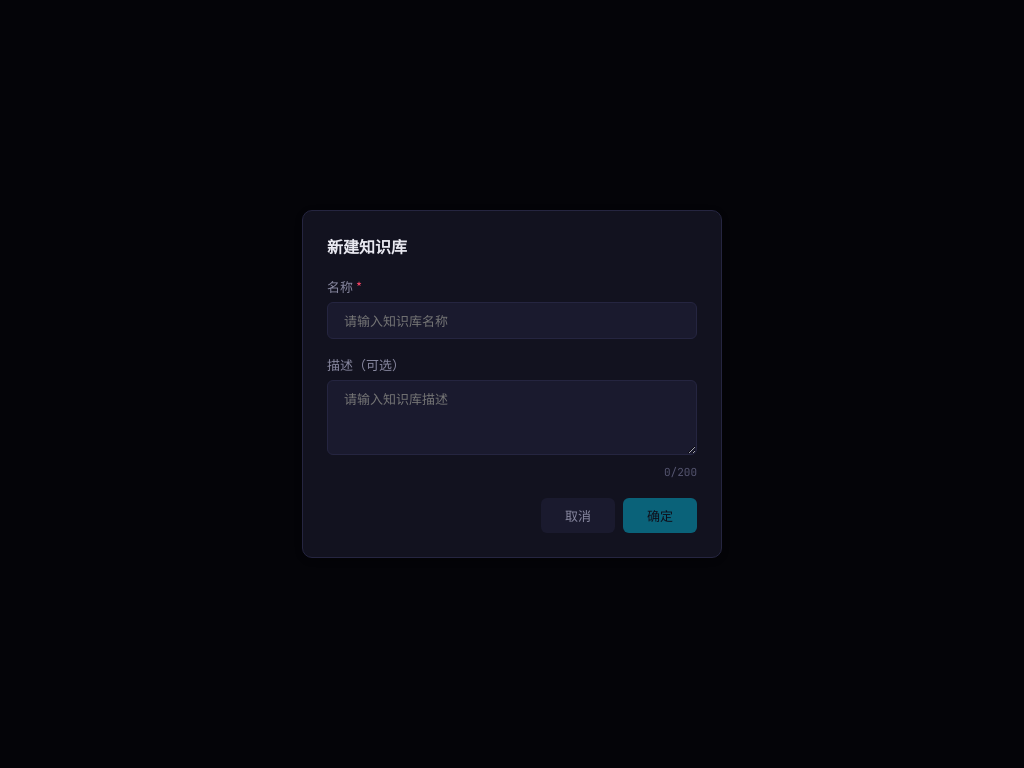
CreateKnowledgeBaseDialog › 合法名称（中英文+数字+下划线+连字符）确定按钮可用（AC-019）
Type "测试-KB_2025" into the field with class "name-input".
click(512, 320); type("测试-KB_2025")  # box [327,302,697,339]
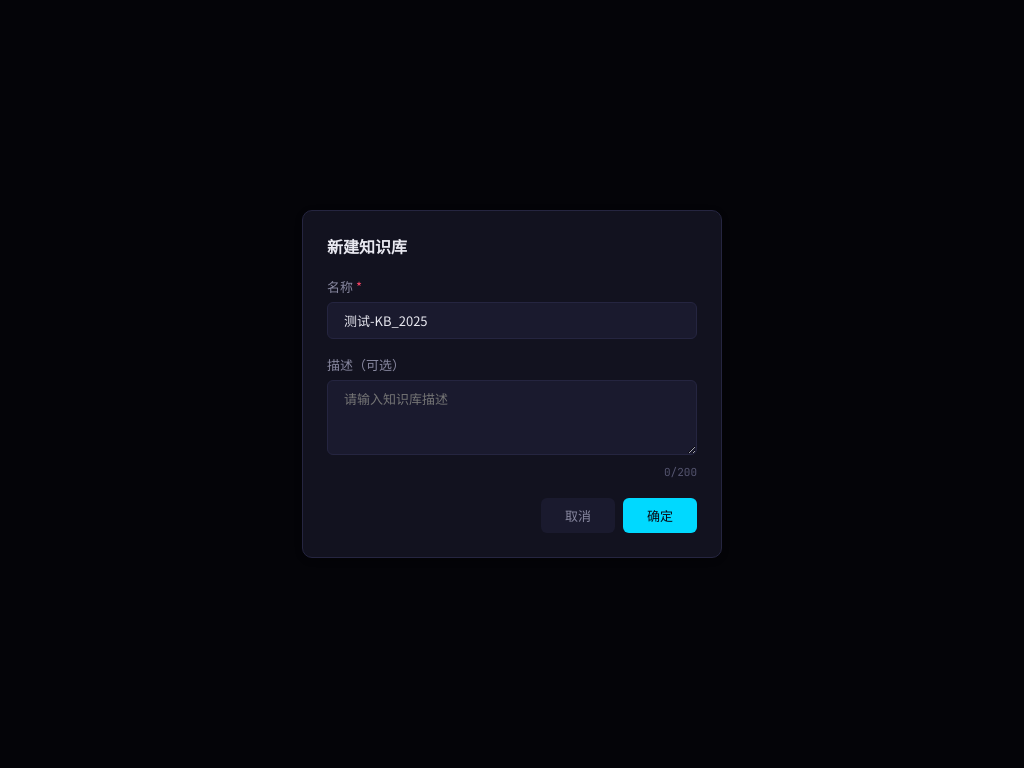
Now the button with class "btn-submit" is enabled, box [623,498,697,533]
